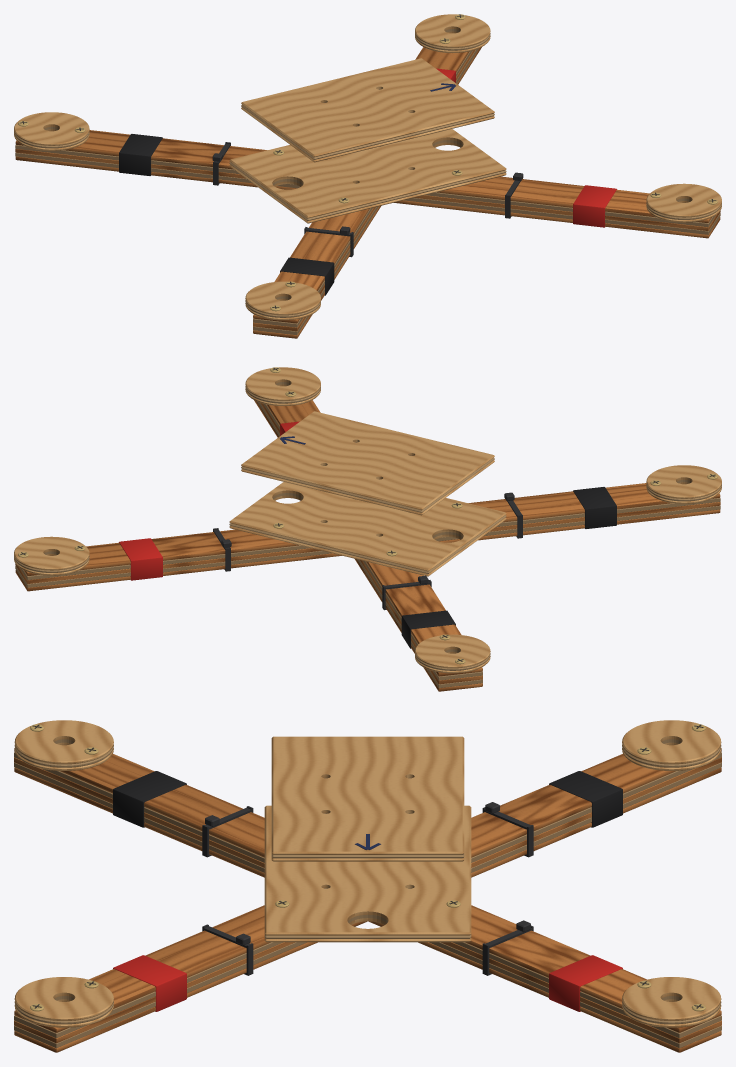
File: chasis_madera.glb
3 renders of one model, top to bottom at view 1: azimuth 30°, elevation 25°; view 2: azimuth 150°, elevation 25°; view 3: azimuth 270°, elevation 25°, orthographic. The views are drawn at different scales.
Parts seen in each view (by area): view 1: tapa, placa_centro, brazo_1, brazo_0, cintas, disco_135, disco_225, disco_315, disco_45, bridas, tornillos; view 2: tapa, placa_centro, brazo_0, brazo_1, cintas, disco_225, disco_135, disco_45, disco_315, bridas, tornillos; view 3: tapa, brazo_1, brazo_0, placa_centro, cintas, disco_135, disco_225, disco_45, disco_315, bridas, tornillos.
Boxes of the visible parts, x1=… form: tapa: x1=241, y1=58, x2=494, y2=162; placa_centro: x1=229, y1=129, x2=506, y2=223; brazo_1: x1=15, y1=130, x2=720, y2=238; brazo_0: x1=253, y1=47, x2=481, y2=338; cintas: x1=119, y1=68, x2=616, y2=295; disco_135: x1=14, y1=112, x2=89, y2=150; disco_225: x1=245, y1=281, x2=320, y2=320; disco_315: x1=646, y1=183, x2=721, y2=222; disco_45: x1=415, y1=14, x2=490, y2=52; bridas: x1=212, y1=142, x2=523, y2=257; tornillos: x1=18, y1=14, x2=717, y2=311; tapa: x1=241, y1=411, x2=494, y2=515; placa_centro: x1=229, y1=482, x2=506, y2=576; brazo_0: x1=15, y1=483, x2=720, y2=591; brazo_1: x1=254, y1=400, x2=482, y2=691; cintas: x1=119, y1=421, x2=616, y2=648; disco_225: x1=646, y1=465, x2=721, y2=503; disco_135: x1=415, y1=634, x2=490, y2=673; disco_45: x1=14, y1=536, x2=89, y2=575; disco_315: x1=245, y1=367, x2=320, y2=405; bridas: x1=213, y1=492, x2=522, y2=610; tornillos: x1=18, y1=367, x2=717, y2=664; tapa: x1=271, y1=736, x2=464, y2=861; brazo_1: x1=14, y1=748, x2=721, y2=1052; brazo_0: x1=14, y1=748, x2=721, y2=1052; placa_centro: x1=264, y1=805, x2=471, y2=942; cintas: x1=113, y1=771, x2=622, y2=1011; disco_135: x1=622, y1=720, x2=721, y2=770; disco_225: x1=14, y1=720, x2=113, y2=770; disco_45: x1=622, y1=977, x2=721, y2=1027; disco_315: x1=14, y1=977, x2=113, y2=1027; bridas: x1=202, y1=802, x2=533, y2=975; tornillos: x1=30, y1=724, x2=705, y2=1011.
Size of the model in its own units: 0.2572 by 0.045 by 0.2572.
Materials: 9 (2 with a texture image).
